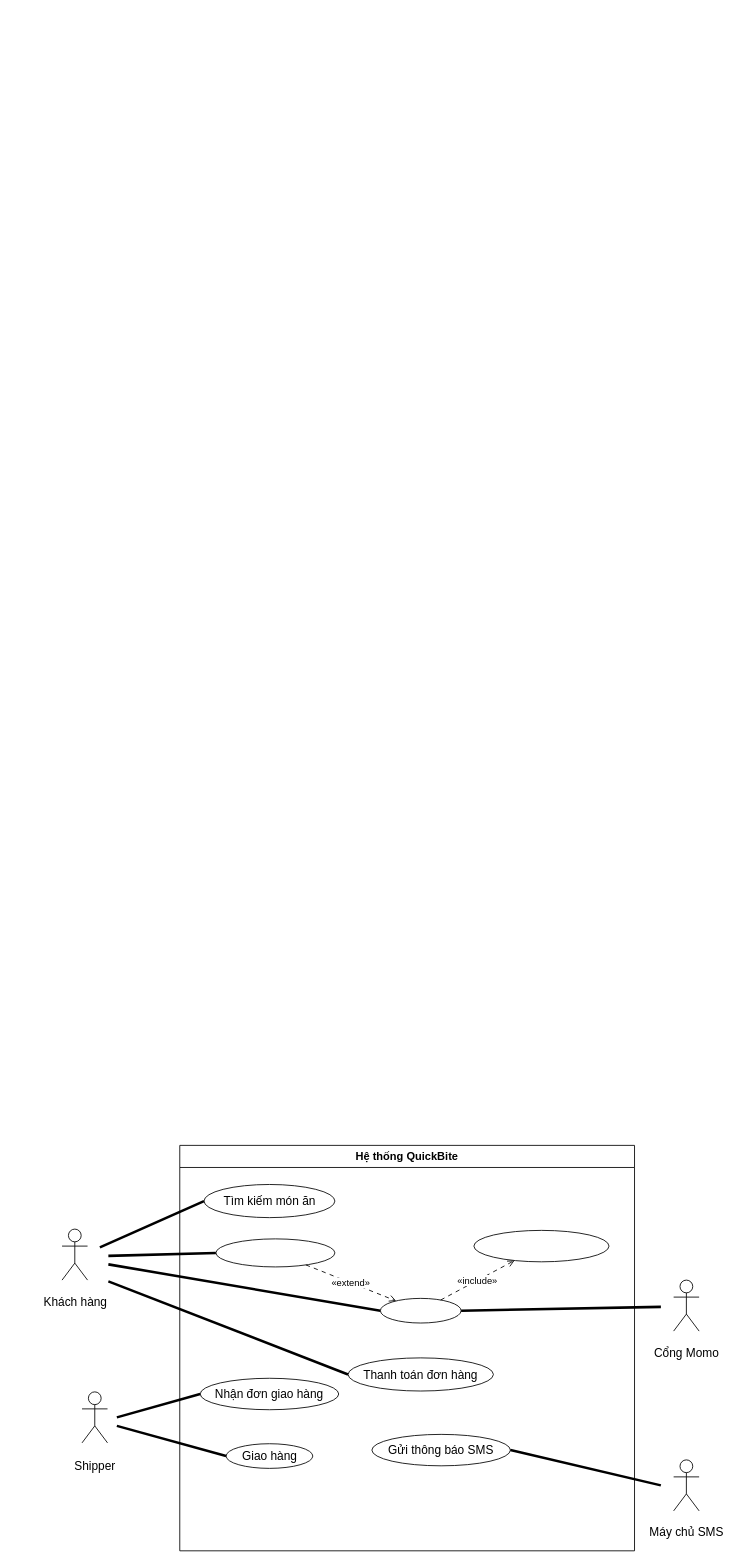
Some shapes in this 746 by 1566 pixel diagram are drawn without their labels. Here are the shapes that lost their labels. From the top down, the centre of each, then its label:
[275,1252]: Áp mã giảm giá
[541,1246]: Xác thực tài khoản
[420,1310]: Đặt đồ ăn
